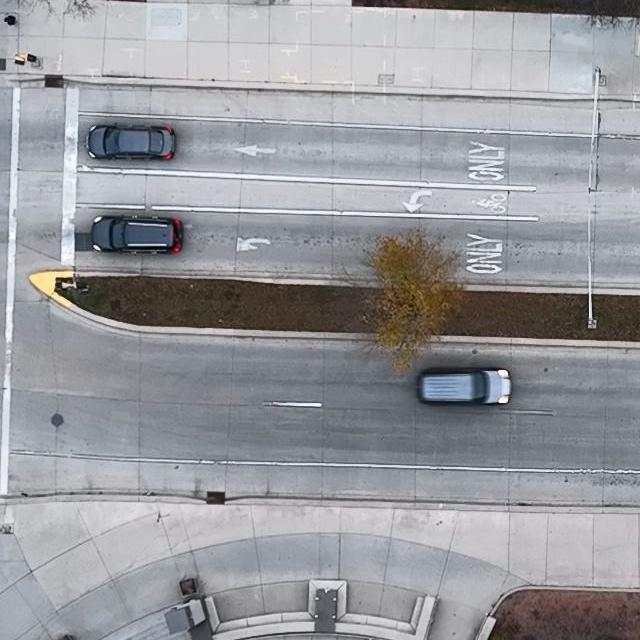car: (419, 365, 513, 406), (90, 215, 183, 256), (86, 122, 176, 161)
